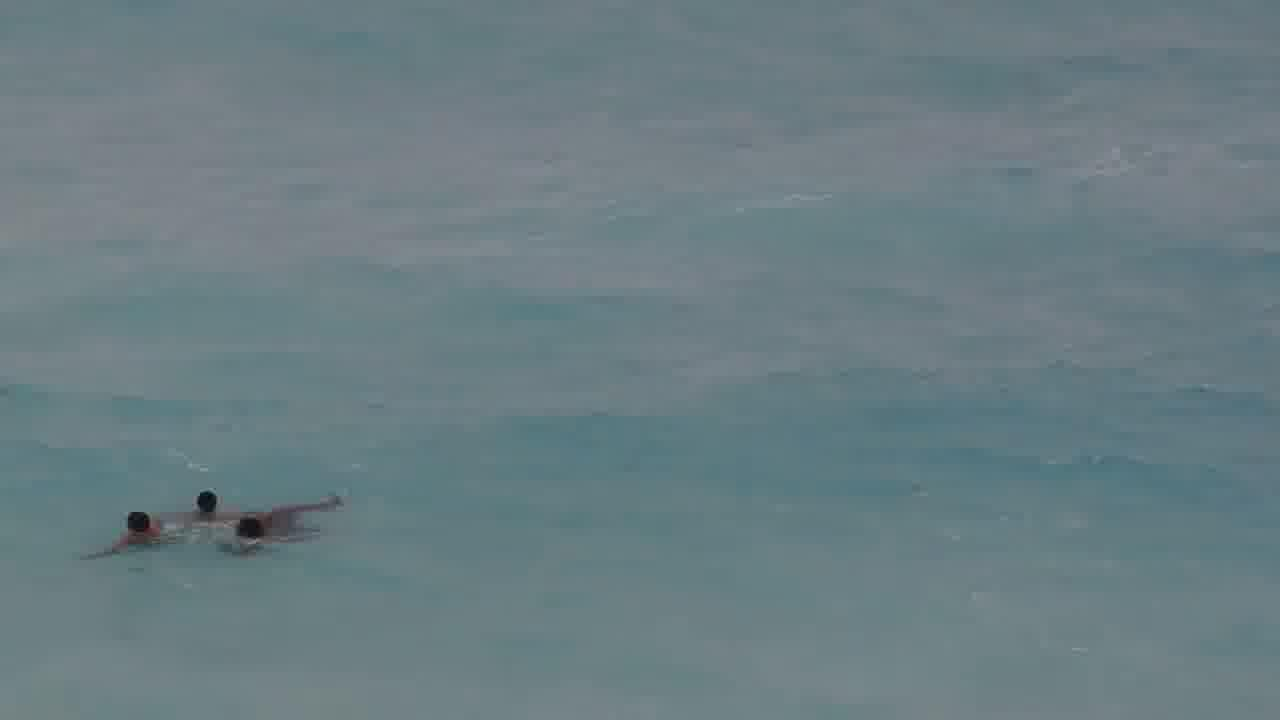human: (77, 508, 169, 562), (230, 510, 338, 554), (157, 489, 252, 518)
